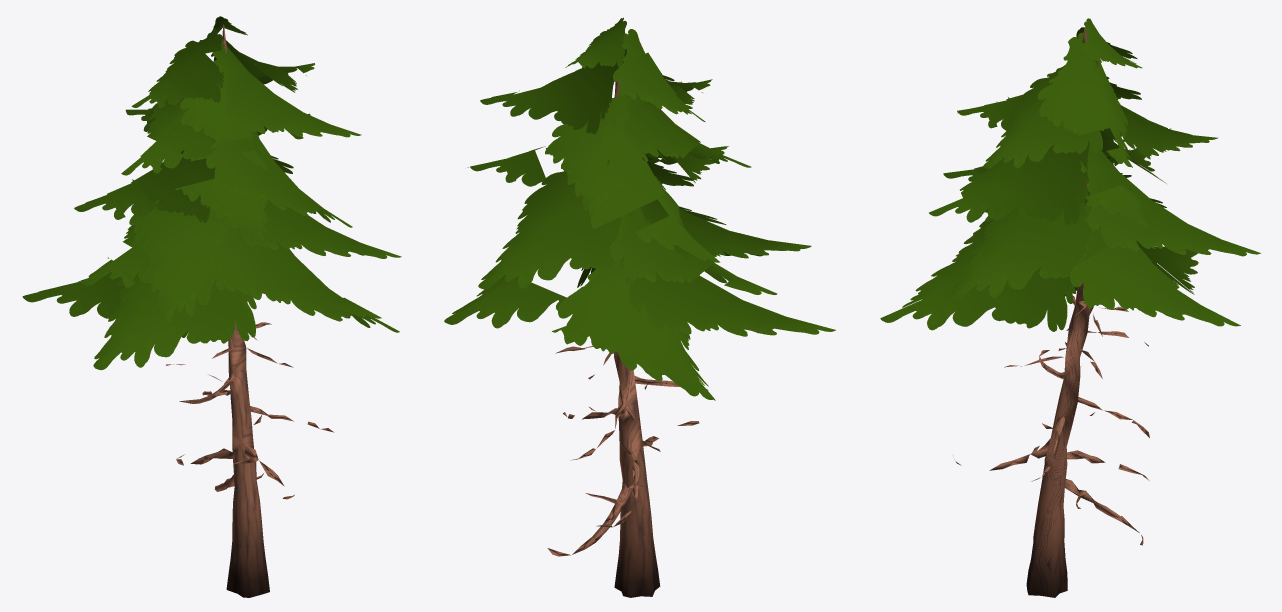
The model's file is Pine_3.glb.
The picture shows the model from 3 angles, left to right: view 1: azimuth 30°, elevation 25°; view 2: azimuth 150°, elevation 25°; view 3: azimuth 270°, elevation 25°; orthographic projection. The views are drawn at different scales.
Visible parts, largest first — view 1: Pine_3; view 2: Pine_3; view 3: Pine_3.
Boxes of the visible parts, x1=… form: Pine_3: x1=22, y1=16, x2=401, y2=597; Pine_3: x1=444, y1=17, x2=835, y2=597; Pine_3: x1=880, y1=18, x2=1260, y2=597.
Size of the model in its own units: 4.05 by 7.37 by 4.62.
2 materials, 2 textured.
